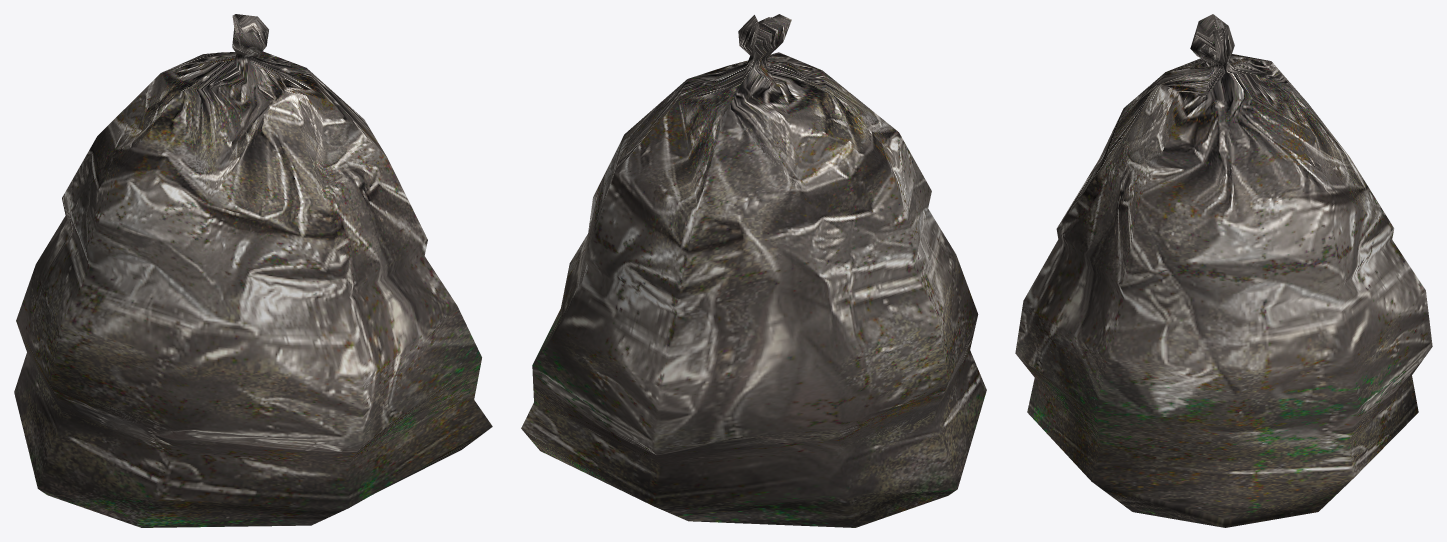
The model's file is Model_Garbage_Bag_01.fbx.
The picture shows the model from 3 angles, left to right: view 1: azimuth 30°, elevation 25°; view 2: azimuth 150°, elevation 25°; view 3: azimuth 270°, elevation 25°; orthographic projection. The views are drawn at different scales.
Visible parts, largest first — view 1: Garbage_Bag_01; view 2: Garbage_Bag_01; view 3: Garbage_Bag_01.
Part boxes in pixels (x1,y1,x2,y2): Garbage_Bag_01: (14, 14, 492, 527); Garbage_Bag_01: (521, 14, 986, 527); Garbage_Bag_01: (1015, 14, 1432, 527).
Size of the model in its own units: 52.98 by 59.48 by 50.39.
